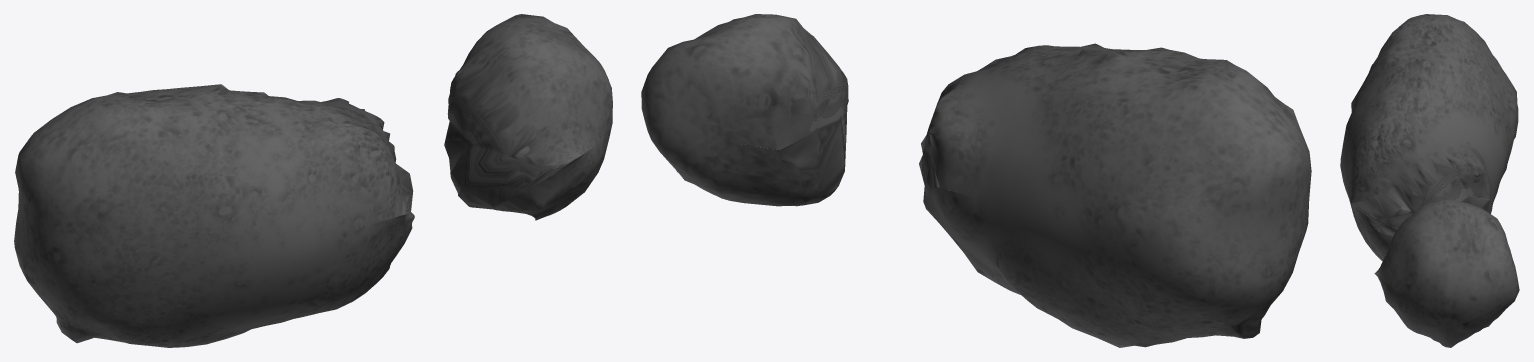
File: Itokawa_broken_1.glb
3 views of the same model, side by side, from view 1: azimuth 30°, elevation 25°; view 2: azimuth 150°, elevation 25°; view 3: azimuth 270°, elevation 25° (orthographic). The views are drawn at different scales.
Parts seen in each view (by area): view 1: itokawa_LP, itokawa_LP.001; view 2: itokawa_LP, itokawa_LP.001; view 3: itokawa_LP, itokawa_LP.001.
Part boxes in pixels (box(x1,y1,x2,y2)): itokawa_LP: box(14, 84, 414, 347); itokawa_LP.001: box(444, 14, 612, 220); itokawa_LP: box(919, 43, 1311, 347); itokawa_LP.001: box(641, 14, 848, 206); itokawa_LP: box(1340, 14, 1518, 261); itokawa_LP.001: box(1374, 197, 1519, 347).
Size of the model in its own units: 664 by 290 by 232.
1 material, 1 textured.
